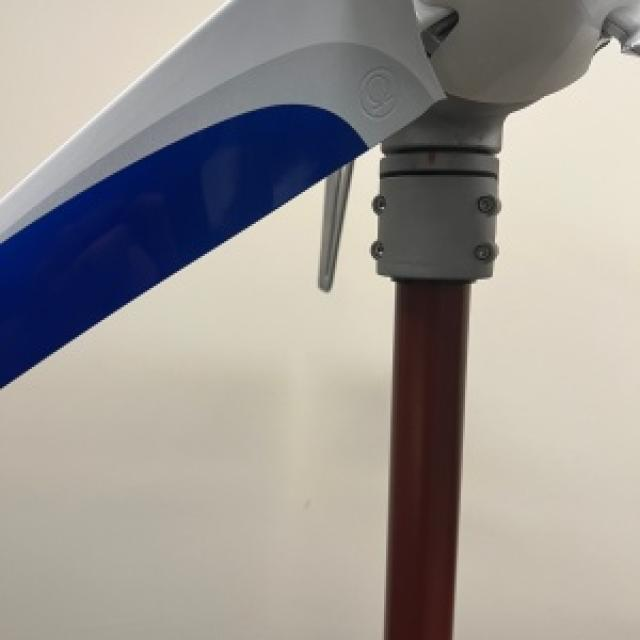healthy: (0, 147, 390, 638)
